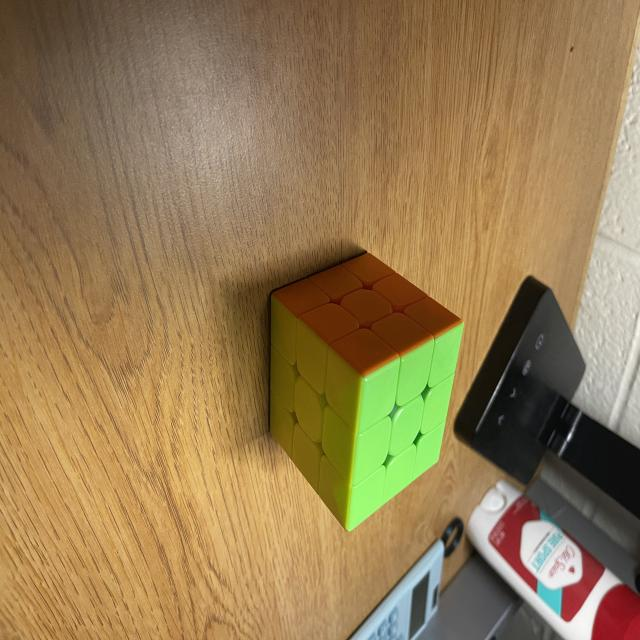Rubiks Cube: (267, 251, 463, 536)
